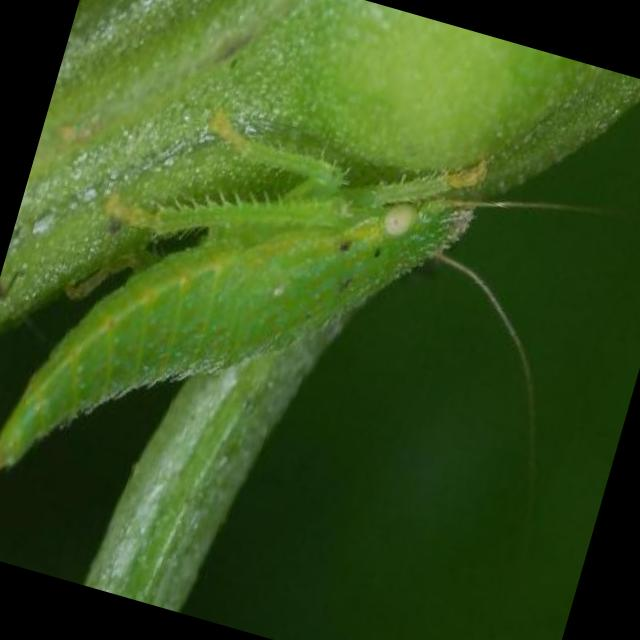green-leafhopper: (0, 83, 469, 576)
